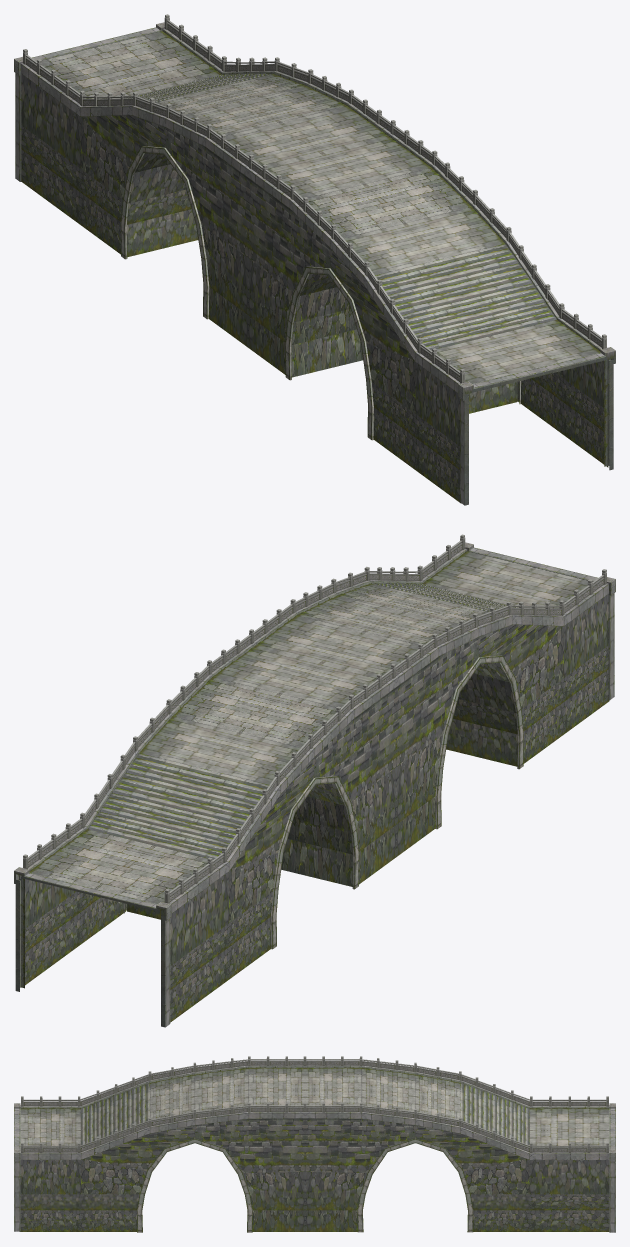
Rendered from Hangzhou_wj_055.FBX.
3 views of the same model, one above another, from view 1: azimuth 30°, elevation 25°; view 2: azimuth 150°, elevation 25°; view 3: azimuth 270°, elevation 25° (orthographic). The views are drawn at different scales.
Parts seen in each view (by area): view 1: Object008; view 2: Object008; view 3: Object008.
Boxes of the visible parts, x1,y1,x2,y2 form: Object008: (14, 14, 615, 505); Object008: (14, 534, 615, 1027); Object008: (14, 1056, 615, 1232).
Bounding box in the file's own units: 1802 × 2168 × 9196.
Materials: 1 (1 with a texture image).
